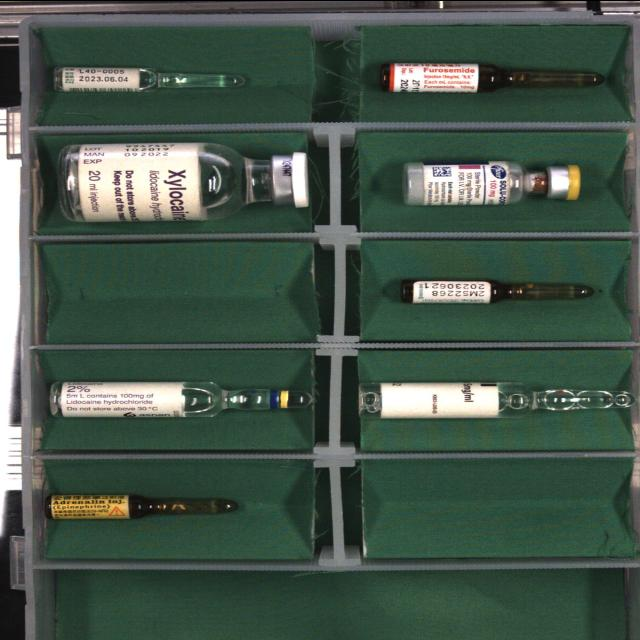Vials: (59, 141, 308, 221), (405, 160, 579, 204), (208, 178, 213, 183)
